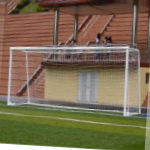goals: (6, 44, 144, 119)
